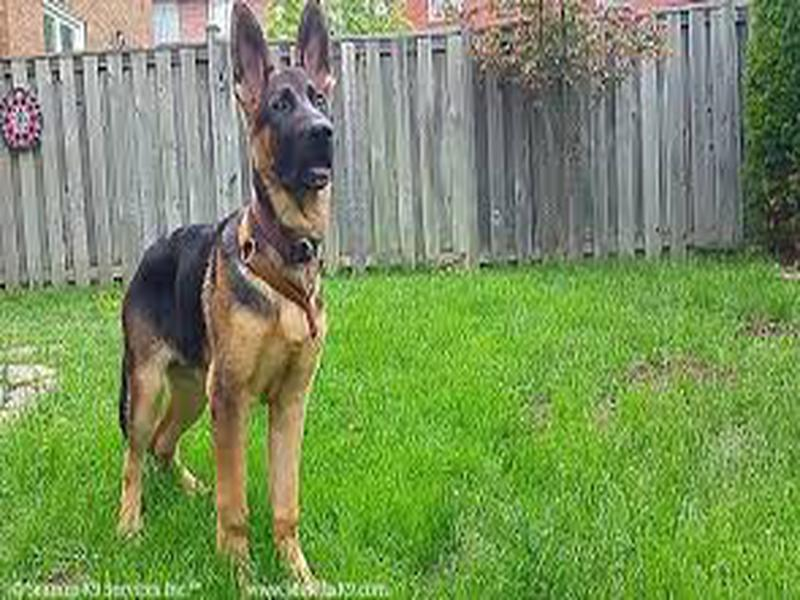dog_stand: (115, 2, 343, 600)
